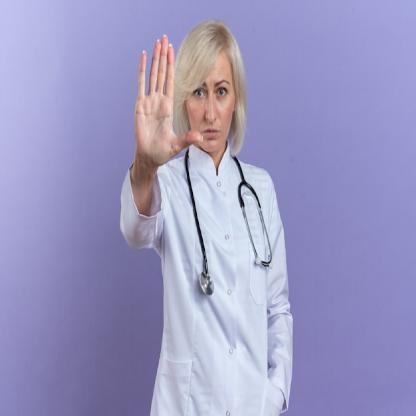stop: (132, 31, 205, 168)
